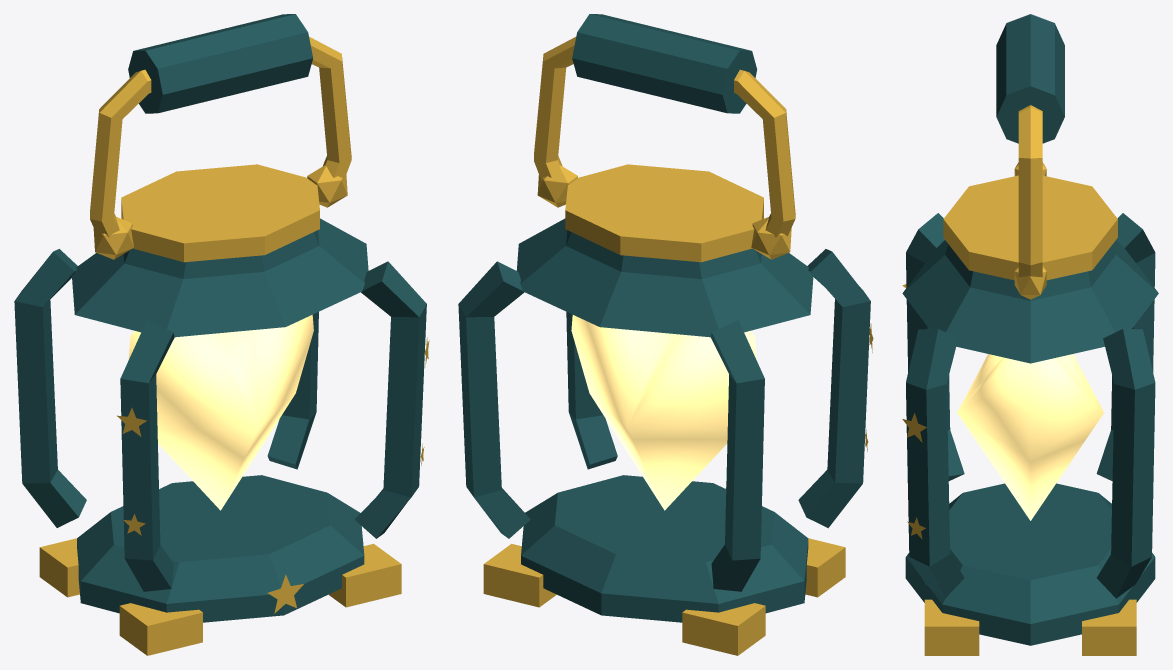
The model's file is wield-firefly-lantern.glb.
3 views of the same model, side by side, from view 1: azimuth 30°, elevation 25°; view 2: azimuth 150°, elevation 25°; view 3: azimuth 270°, elevation 25° (orthographic).
Parts seen in each view (by area): view 1: lantern__static_mesh, lantern__core_mesh; view 2: lantern__static_mesh, lantern__core_mesh; view 3: lantern__static_mesh, lantern__core_mesh.
Boxes of the visible parts, x1,y1,x2,y2 form: lantern__static_mesh: (14,14,429,655); lantern__core_mesh: (128,315,313,510); lantern__static_mesh: (458,14,873,655); lantern__core_mesh: (571,315,756,510); lantern__static_mesh: (902,14,1158,655); lantern__core_mesh: (957,354,1103,520).
Size of the model in its own units: 0.2081 by 0.3515 by 0.1502.
